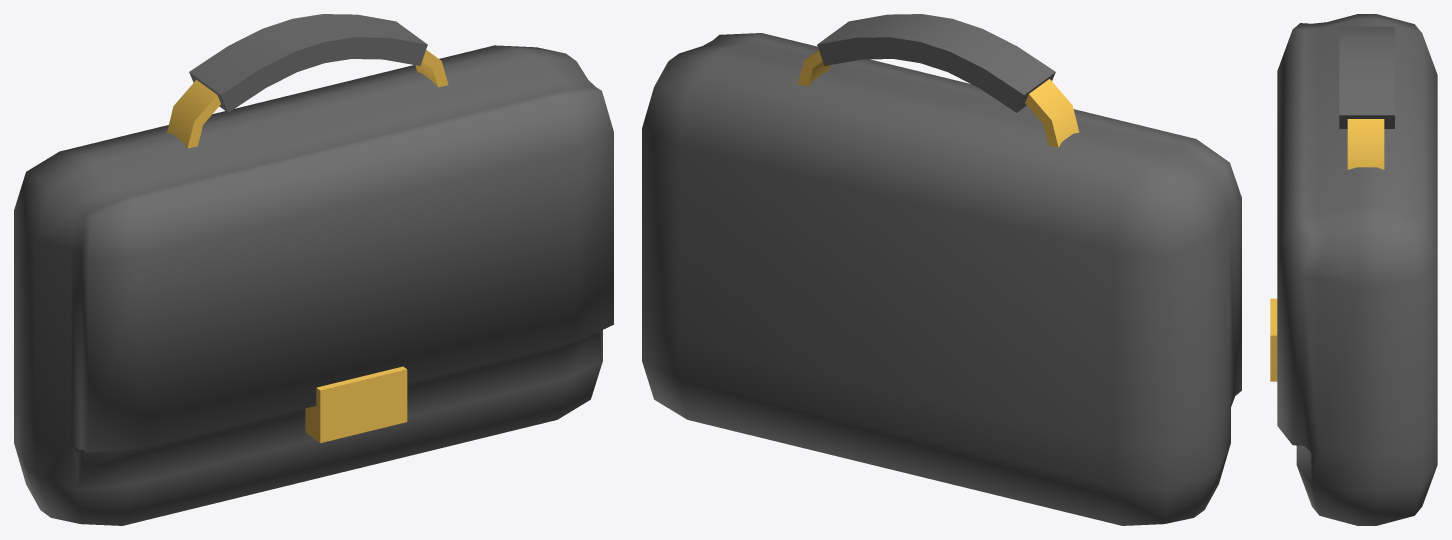
File: worker_Bag.fbx
3 renders of one model, left to right at view 1: azimuth 30°, elevation 25°; view 2: azimuth 150°, elevation 25°; view 3: azimuth 270°, elevation 25°, orthographic. The views are drawn at different scales.
Visible parts, largest first — view 1: Box003; view 2: Box003; view 3: Box003.
Boxes of the visible parts, bbox=[...] form: Box003: bbox=[14, 14, 613, 525]; Box003: bbox=[642, 14, 1241, 525]; Box003: bbox=[1270, 14, 1437, 525].
Bounding box in the file's own units: 31.39 × 23.48 × 9.34.
